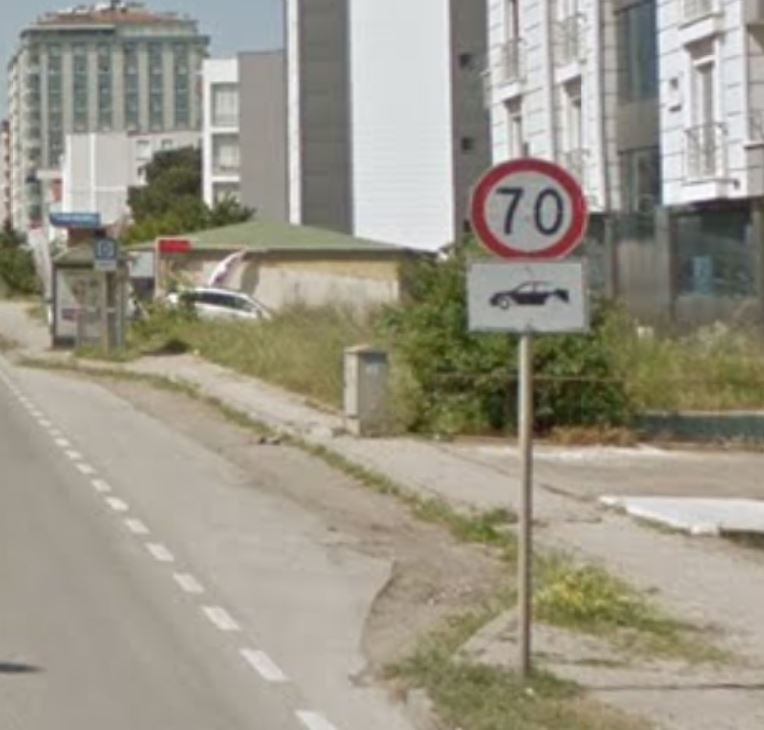70 Km Hiz Siniri: (470, 160, 594, 265)
